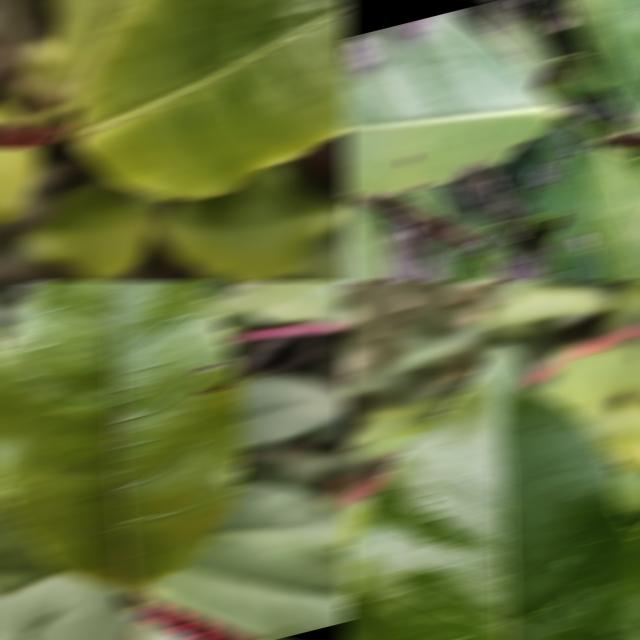Leaf: (343, 349, 640, 639), (0, 282, 246, 596), (340, 11, 558, 193), (145, 531, 350, 639), (155, 166, 346, 280), (22, 186, 155, 278), (525, 121, 603, 269), (561, 1, 640, 123), (212, 483, 350, 544), (236, 374, 350, 446), (448, 215, 568, 280), (584, 149, 640, 280), (481, 1, 566, 83), (208, 282, 350, 327), (24, 582, 136, 639), (0, 564, 79, 639), (596, 1, 640, 98), (552, 83, 626, 131), (413, 227, 472, 280), (0, 149, 43, 221), (614, 384, 640, 468)
